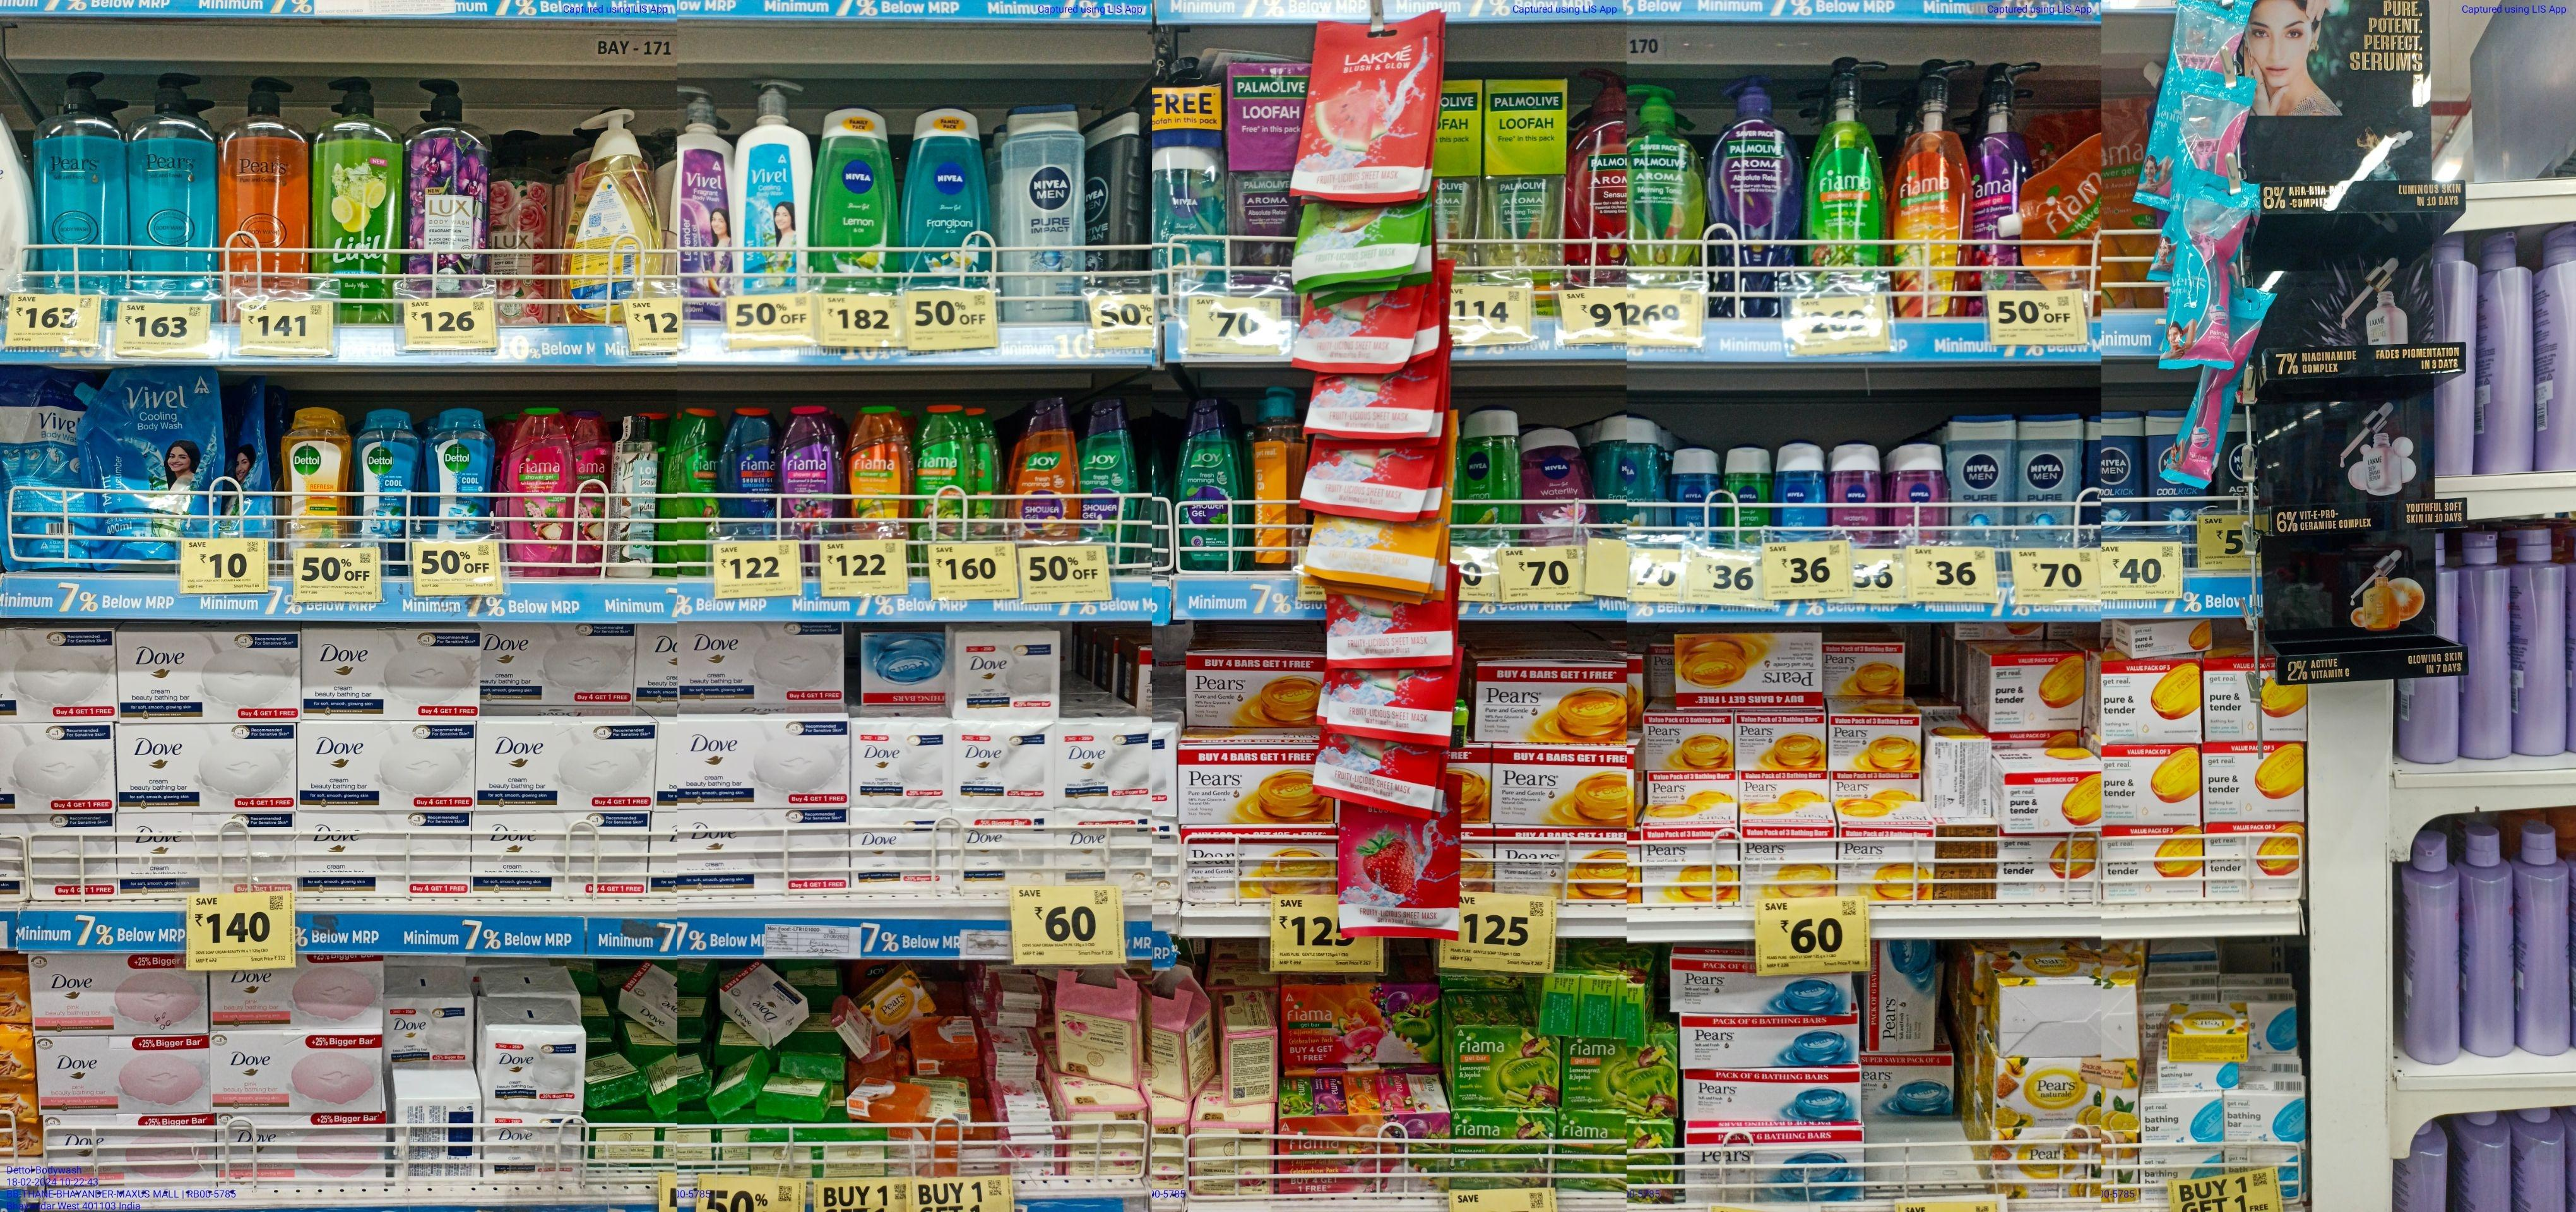Dettol_Bodywash_Cool: (422, 404, 488, 540), (352, 406, 416, 544)
Dettol_Bodywash_Refresh: (279, 407, 347, 553)
Fiama_Shower_Gel_Patchouli_and_Macadamia_250ML: (504, 406, 567, 576)
Fiama_Shower_Gel_Peach_and_Avocado_250ML: (1009, 396, 1084, 544), (843, 402, 907, 516)
Joy_Shower_Gel_Mint_and_Eucalyptus_250ML: (1176, 393, 1242, 570)
Nivea_Shower_Gel_Frangipani_and_Oil_250ML: (904, 108, 991, 291)
Nivea_Shower_Gel_Lemon_and_Oil_250ML: (815, 112, 899, 294), (1462, 407, 1520, 540)
Nivea_Shower_Gel_Waterlily_and_Oil_250ML: (1523, 424, 1595, 540)
